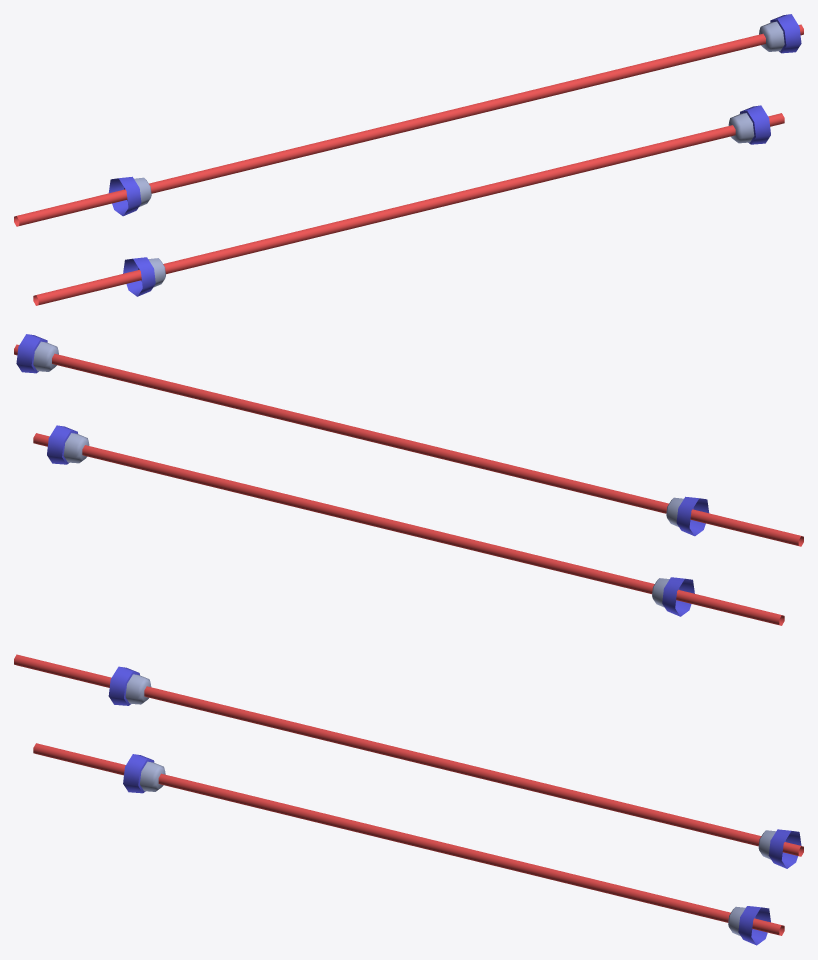
Rendered from Level22_Lasers.fbx.
3 views of the same model, one above another, from view 1: azimuth 30°, elevation 25°; view 2: azimuth 150°, elevation 25°; view 3: azimuth 330°, elevation 25° (orthographic).
Visible parts, largest first — view 1: Laser (×2), Metal1 (×2), Metal2 (×2); view 2: Laser (×2), Metal1 (×2), Metal2 (×2); view 3: Laser (×2), Metal2 (×2), Metal1 (×2).
Part boxes in pixels (x1,y1,x2,y2): Laser (×2): (14, 24, 803, 305); Metal1 (×2): (728, 14, 801, 144); Metal2 (×2): (108, 176, 165, 296); Laser (×2): (14, 344, 803, 625); Metal1 (×2): (16, 334, 89, 464); Metal2 (×2): (652, 496, 709, 616); Laser (×2): (14, 654, 803, 935); Metal2 (×2): (108, 666, 165, 793); Metal1 (×2): (728, 829, 801, 945).
Bounding box in the file's own units: 85.55 × 12.39 × 3.74.
